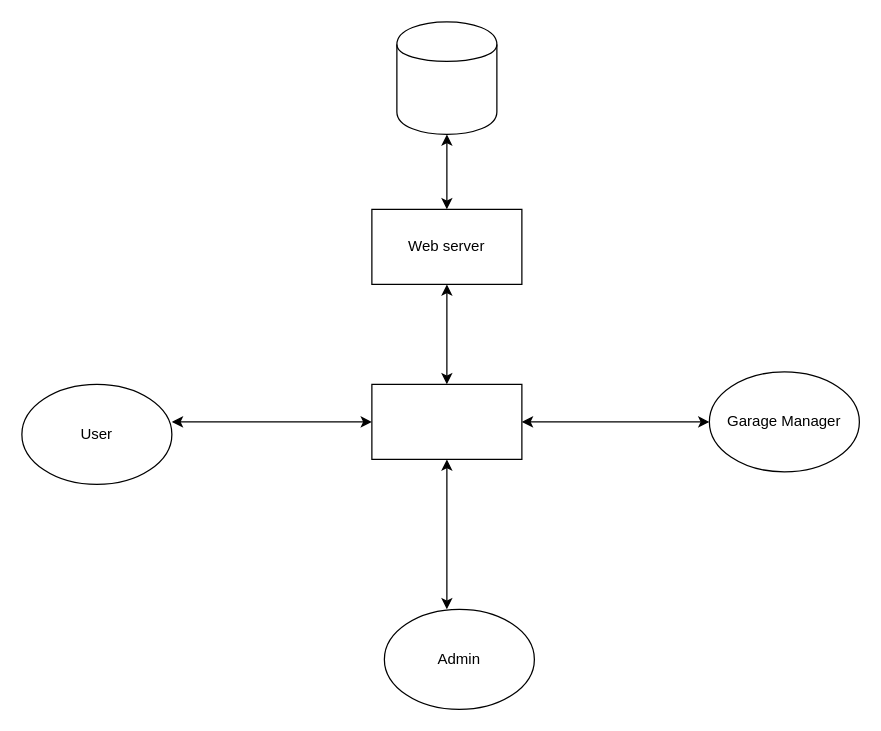
Image size: 881x731. Some labels were removed from this diagram. The shapes that lost their labels are listed below. From the top down, each one's box as (x1, y1, x2, y2) in pixels, then its label:
(396, 21, 497, 134): Database server
(371, 383, 522, 459): Parking Garage System
